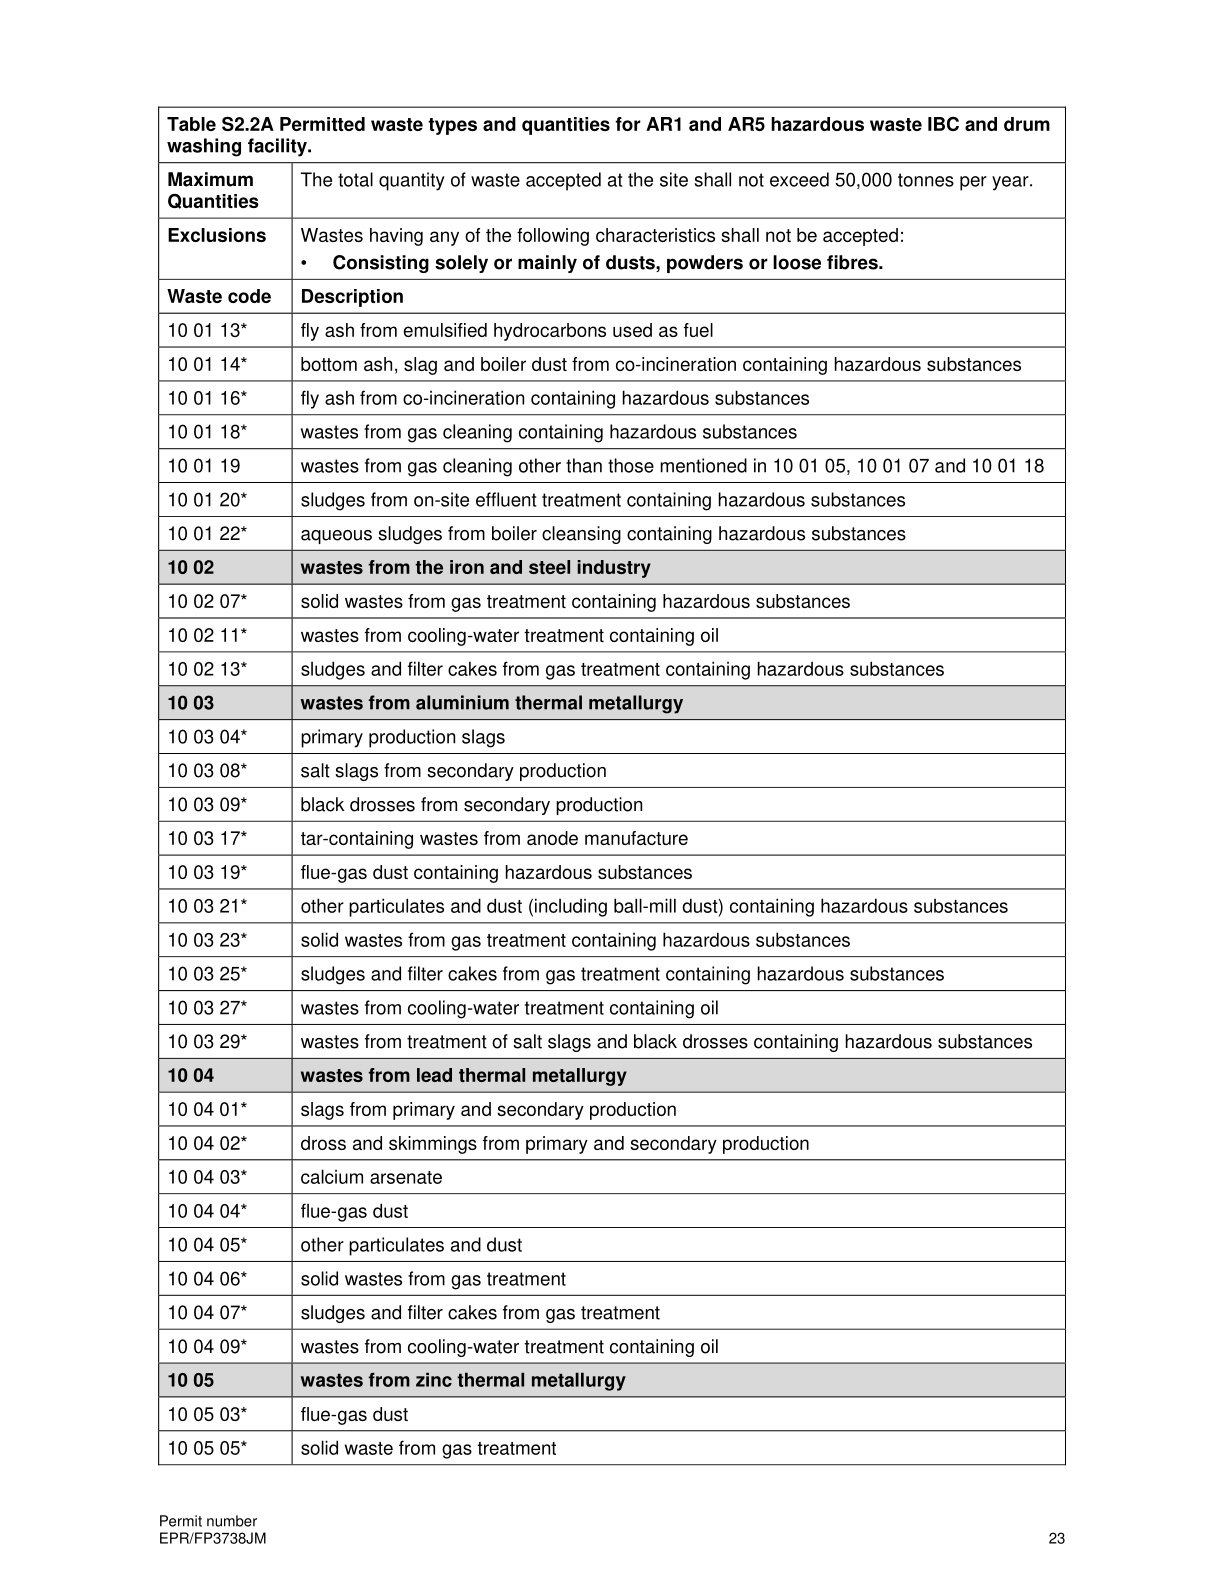merged_cells: (157, 105, 1067, 1466)
